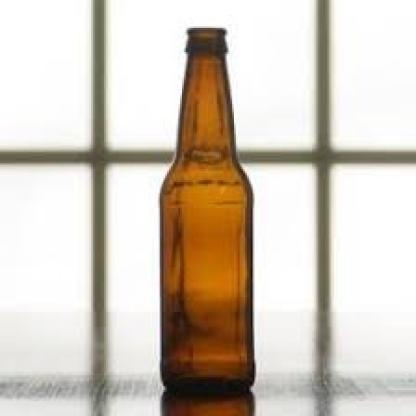trash: (160, 28, 254, 392)
